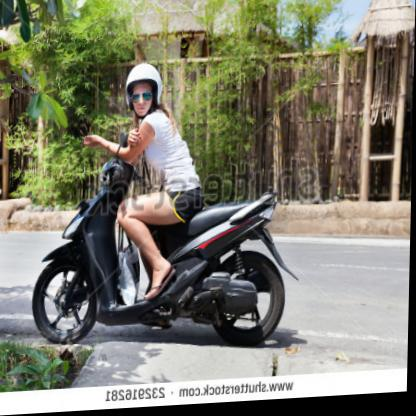With Helmet: (123, 59, 168, 122)
